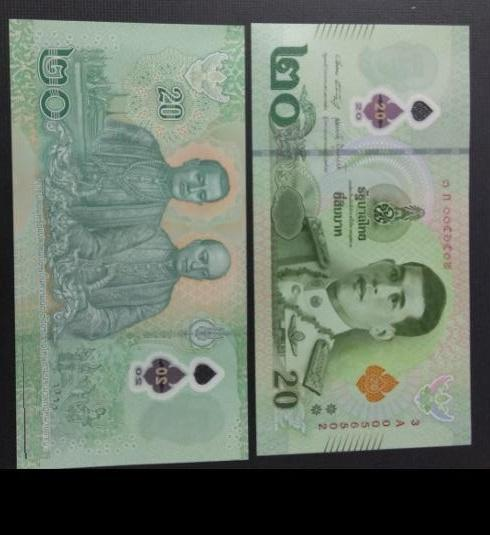20BahtTai: (15, 26, 242, 460)
